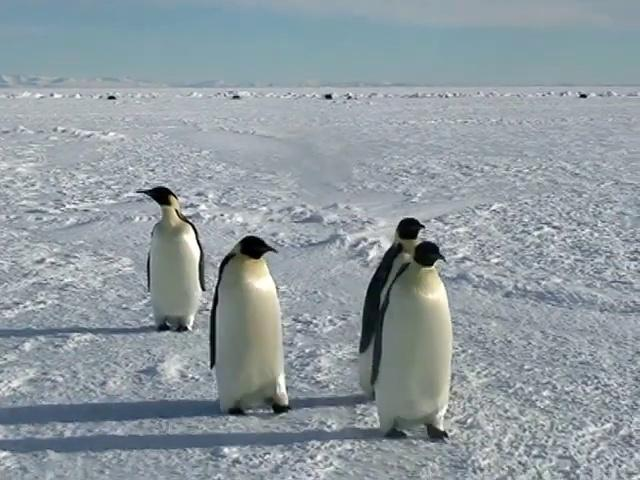animal: (373, 241, 451, 439)
